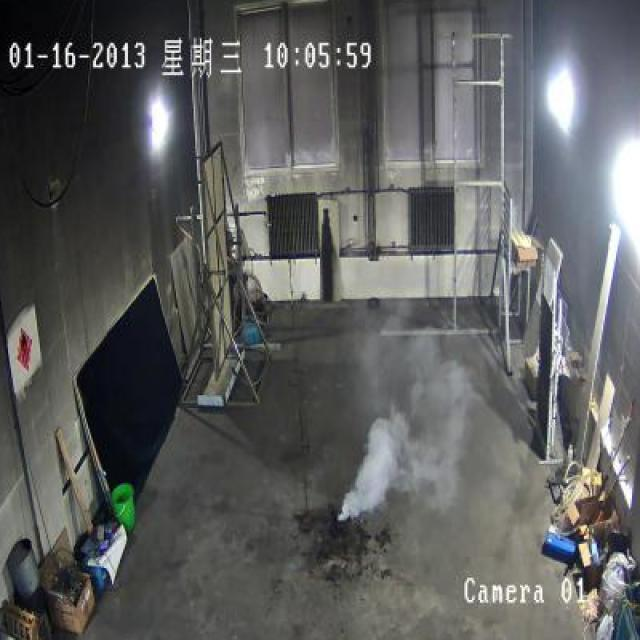fire: (338, 324, 472, 526)
